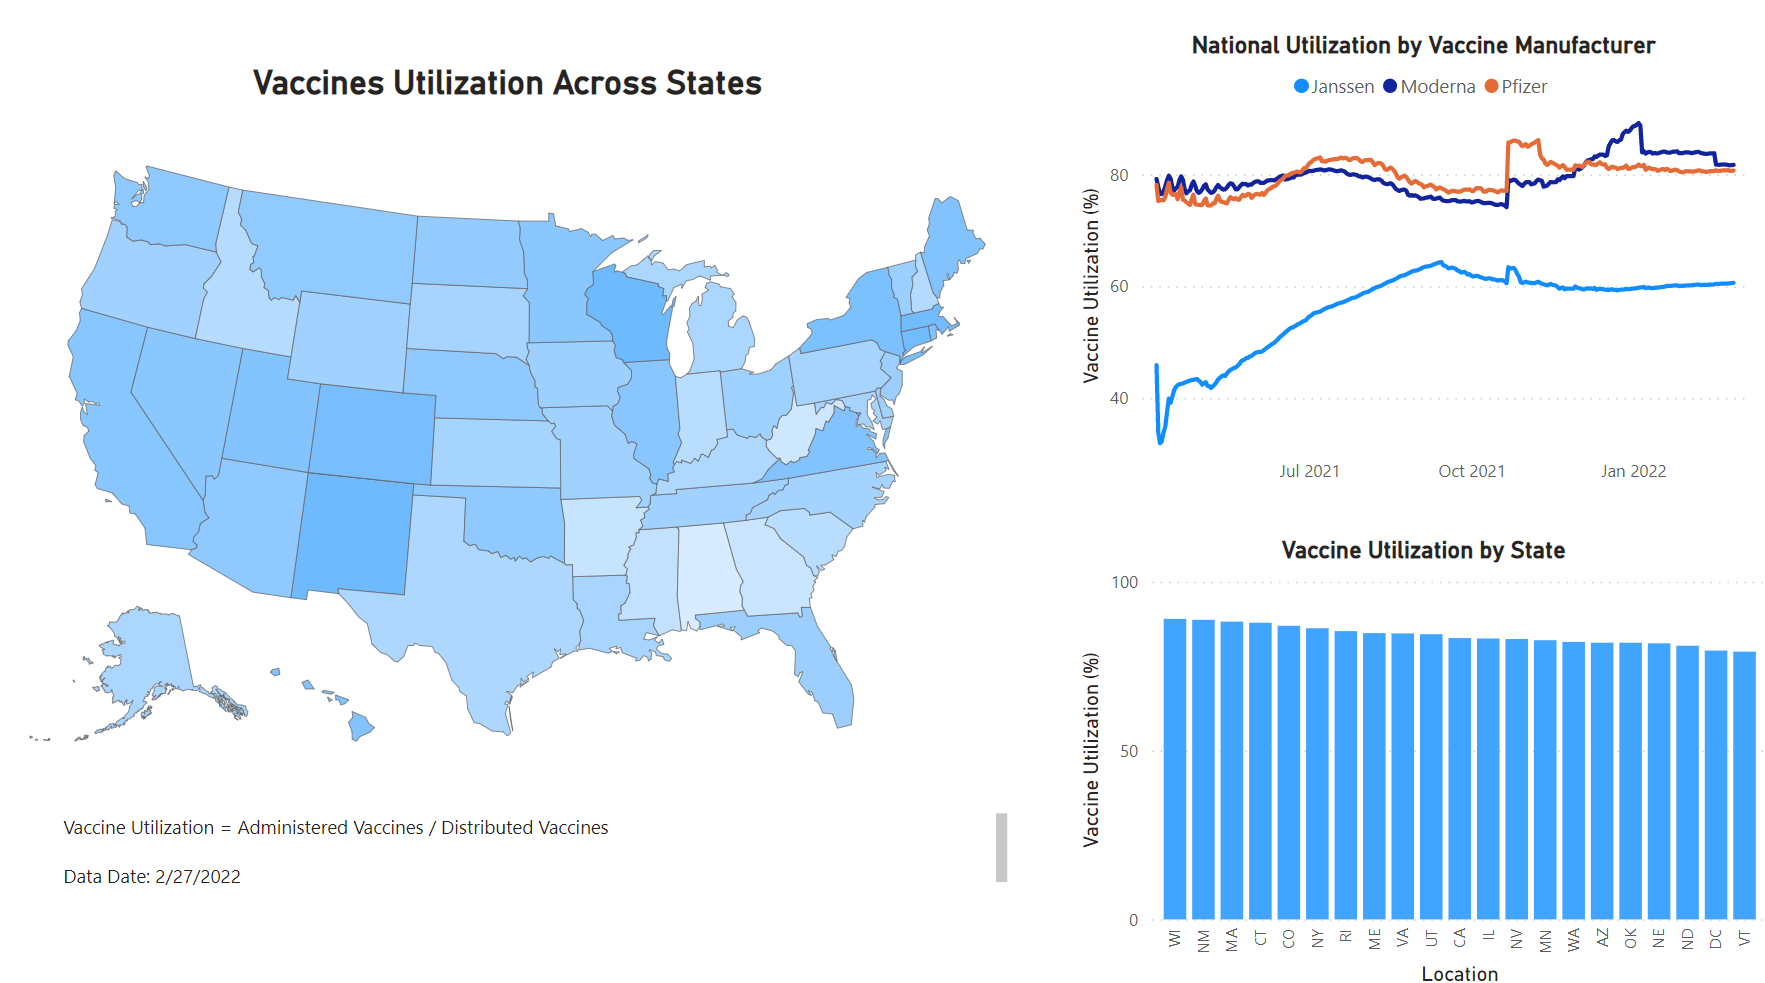

This screenshot's page, from the dashboard's own definition file:
{"tool":"powerbi","page":{"name":"Page 1","canvas":[1280,720],"ordinal":0},"visuals":[{"type":"shapeMap","title":"Vaccines Utilization Across States","fields":{"Category":["COVID-19_Vaccinations_US.Location"],"Value":["Sum(COVID-19_Vaccinations_US.Utilized)"]},"box":[0,52.3,762.3,527.4],"z":0},{"type":"clusteredColumnChart","title":"Vaccine Utilization by State","fields":{"Category":["COVID-19_Vaccinations_US.Location"],"Y":["Sum(COVID-19_Vaccinations_US.Utilized)"]},"box":[781.8,387.4,498.2,332.4],"z":1000},{"type":"lineChart","title":"National Utilization by Vaccine Manufacturer","fields":{"Y":["Sum(Table.Utilization_Janssen)","Sum(Table.Utilization_Moderna)","Sum(Table.Utilization_Pfizer)"],"Category":["Table.COVID-19_Vaccinations_US_Date"]},"box":[781.8,29.3,498.2,330.6],"z":2000},{"type":"textbox","box":[61.2,579.7,679,61.2],"z":3000}]}

Visuals, with their boxes in screenshot pixels (x1, y1, x2, y2), scaled from the page's 1280x720 canvas onto the 1765x983 screenshot:
"Vaccines Utilization Across States" shapeMap: <box>0,71,1051,791</box>
"Vaccine Utilization by State" clusteredColumnChart: <box>1078,529,1764,982</box>
"National Utilization by Vaccine Manufacturer" lineChart: <box>1078,40,1764,491</box>
textbox: <box>84,791,1021,875</box>
